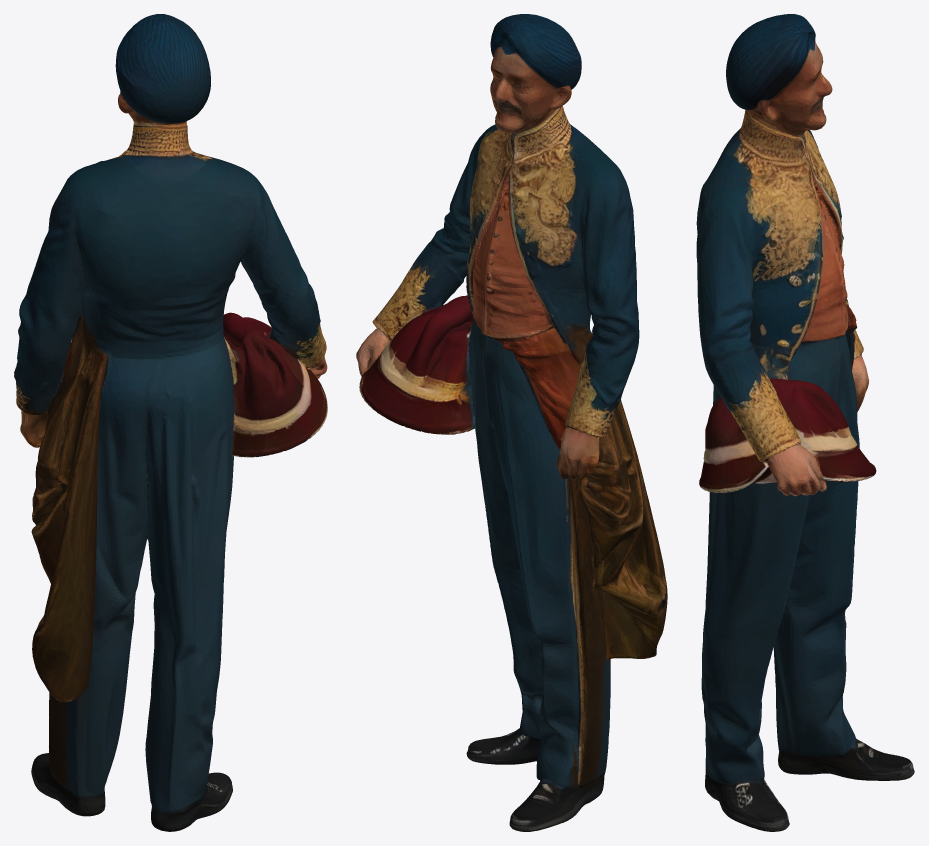
The model's file is helas_final.glb.
3 views of the same model, side by side, from view 1: azimuth 30°, elevation 25°; view 2: azimuth 150°, elevation 25°; view 3: azimuth 270°, elevation 25° (orthographic). The views are drawn at different scales.
Visible parts, largest first — view 1: tripo_node_7e463e68-ac8c-4564-be23-a374b032aab3; view 2: tripo_node_7e463e68-ac8c-4564-be23-a374b032aab3; view 3: tripo_node_7e463e68-ac8c-4564-be23-a374b032aab3.
Boxes of the visible parts, x1,y1,x2,y2 form: tripo_node_7e463e68-ac8c-4564-be23-a374b032aab3: [14, 14, 327, 831]; tripo_node_7e463e68-ac8c-4564-be23-a374b032aab3: [356, 14, 667, 831]; tripo_node_7e463e68-ac8c-4564-be23-a374b032aab3: [696, 14, 914, 831].
Bounding box in the file's own units: 0.6103 × 1.5 × 0.3778.
Materials: 1 (1 with a texture image).
